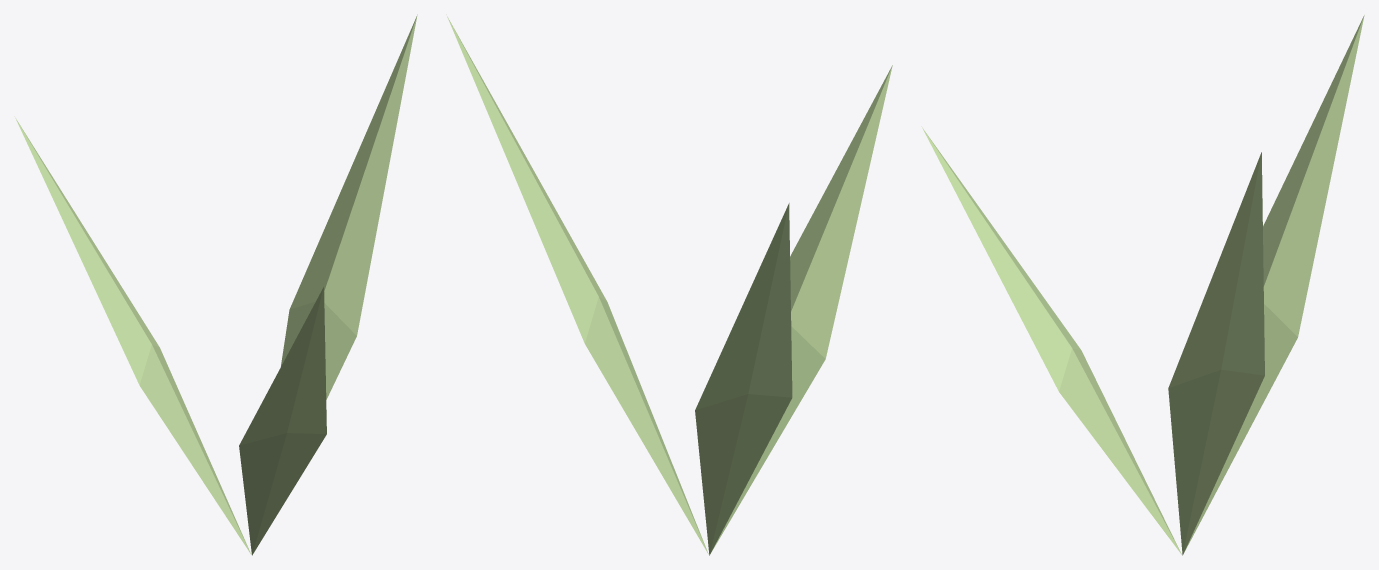
Rendered from crop_wheat_s0.glb.
The picture shows the model from 3 angles, left to right: view 1: azimuth 30°, elevation 25°; view 2: azimuth 150°, elevation 25°; view 3: azimuth 270°, elevation 25°; orthographic projection. The views are drawn at different scales.
Visible parts, largest first — view 1: crop_wheat_s0; view 2: crop_wheat_s0; view 3: crop_wheat_s0.
Part boxes in pixels (bbox=[...]): crop_wheat_s0: bbox=[14, 14, 417, 555]; crop_wheat_s0: bbox=[446, 14, 892, 555]; crop_wheat_s0: bbox=[921, 15, 1364, 555].
Size of the model in its own units: 0.152 by 0.19 by 0.1489.
